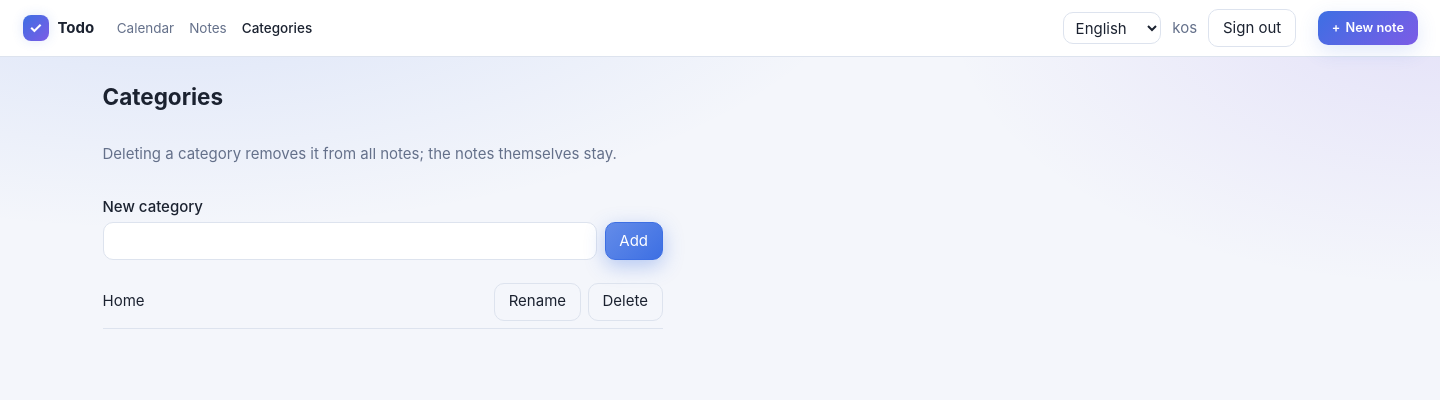
Test: categories › adds a category to the list
Type "Work" into the field labelled "New category".
click(350, 241); type("Work")  # box left=102, top=222, right=597, bottom=260
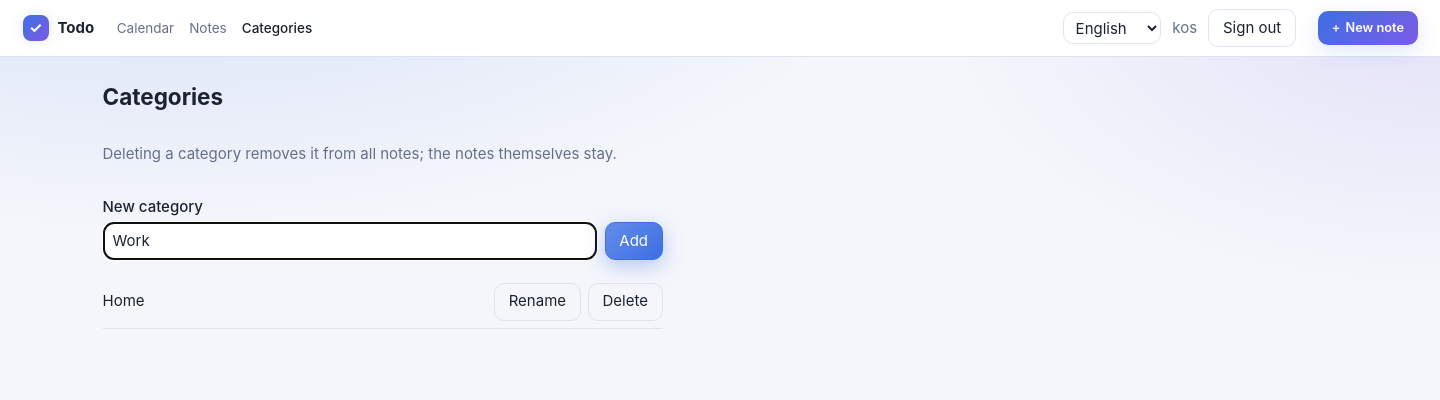
Click the button "Add".
click(634, 241)  # box left=605, top=222, right=662, bottom=260
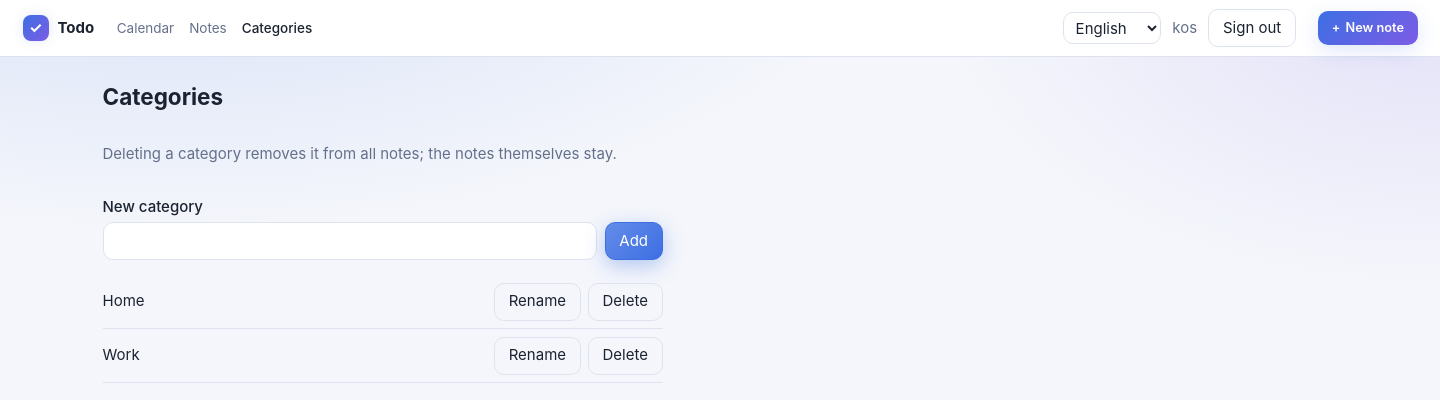
expect the text "Work" is shown: met, box left=102, top=345, right=140, bottom=364
expect the field labelled "New category" is empty: met, box left=102, top=222, right=597, bottom=260
